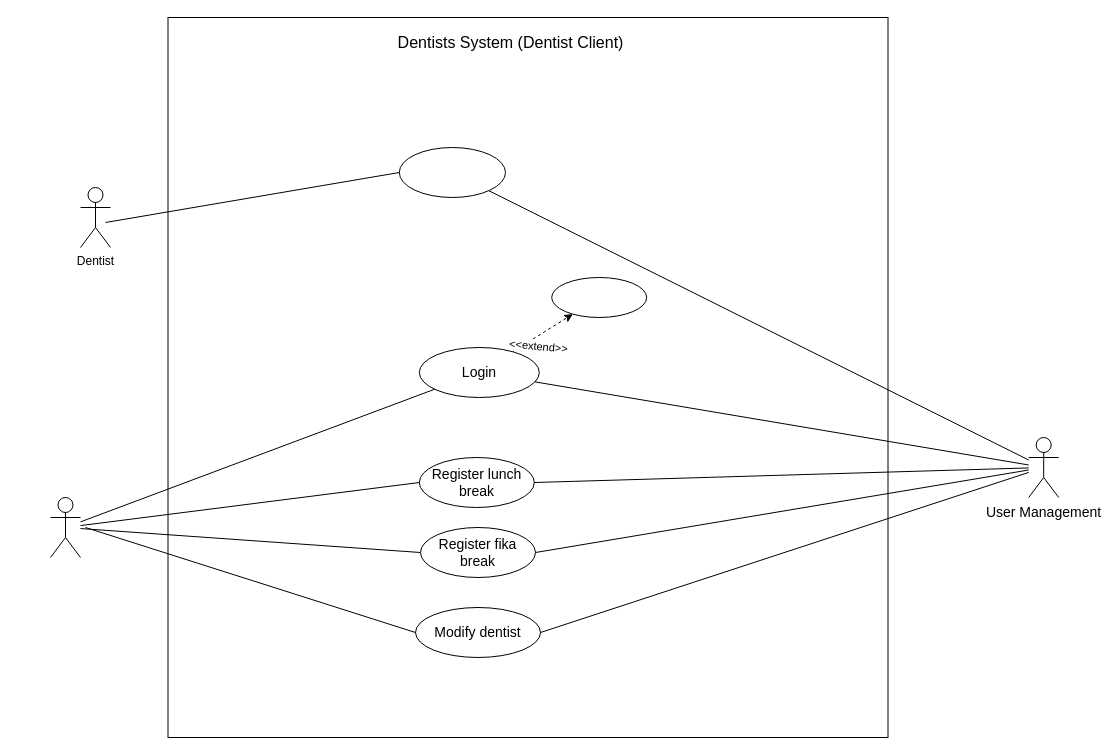
The diagram is 1119 pixels wide and 755 high, and some of its shapes have lost their labels. Each missing label, with the box of its shape:
Register: (398, 146, 506, 198)
Registered dentist: (50, 496, 80, 558)
Reset password: (551, 276, 647, 318)
